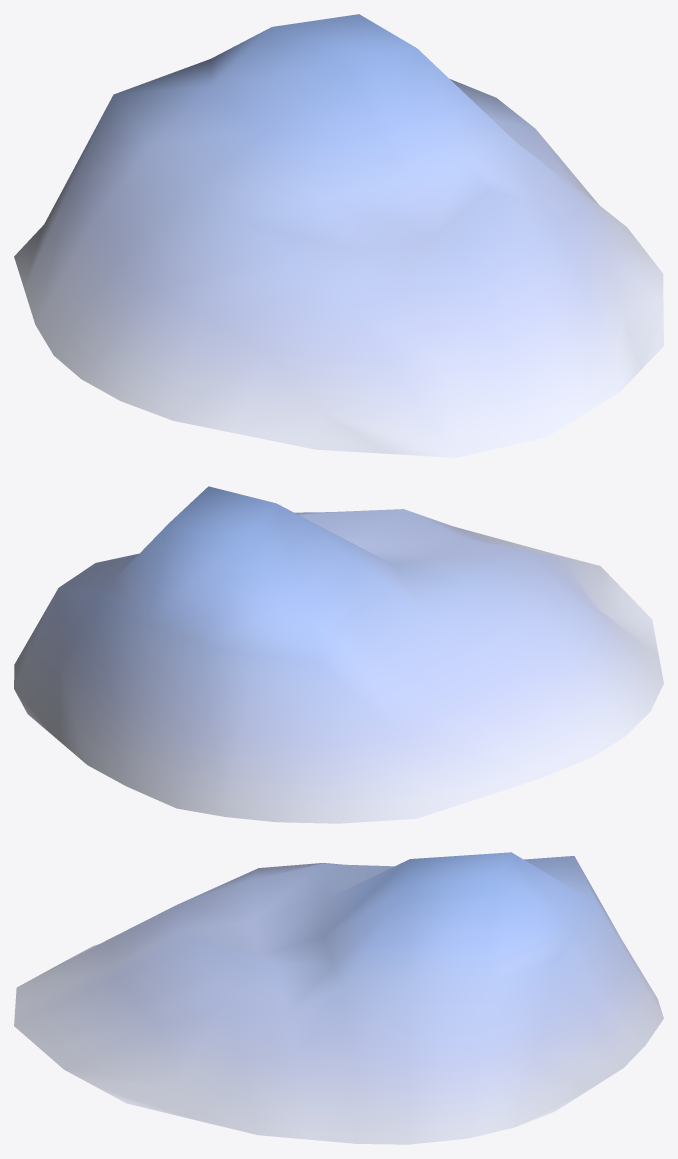
File: snowpile02.fbx
3 views of the same model, one above another, from view 1: azimuth 30°, elevation 25°; view 2: azimuth 150°, elevation 25°; view 3: azimuth 270°, elevation 25° (orthographic). The views are drawn at different scales.
Visible parts, largest first — view 1: snowpile02; view 2: snowpile02; view 3: snowpile02.
Boxes of the visible parts, left/top/right/bottom form: snowpile02: left=14, top=14, right=663, bottom=457; snowpile02: left=14, top=486, right=663, bottom=823; snowpile02: left=14, top=852, right=663, bottom=1144.
Bounding box in the file's own units: 0.7548 × 0.2561 × 0.8526.
